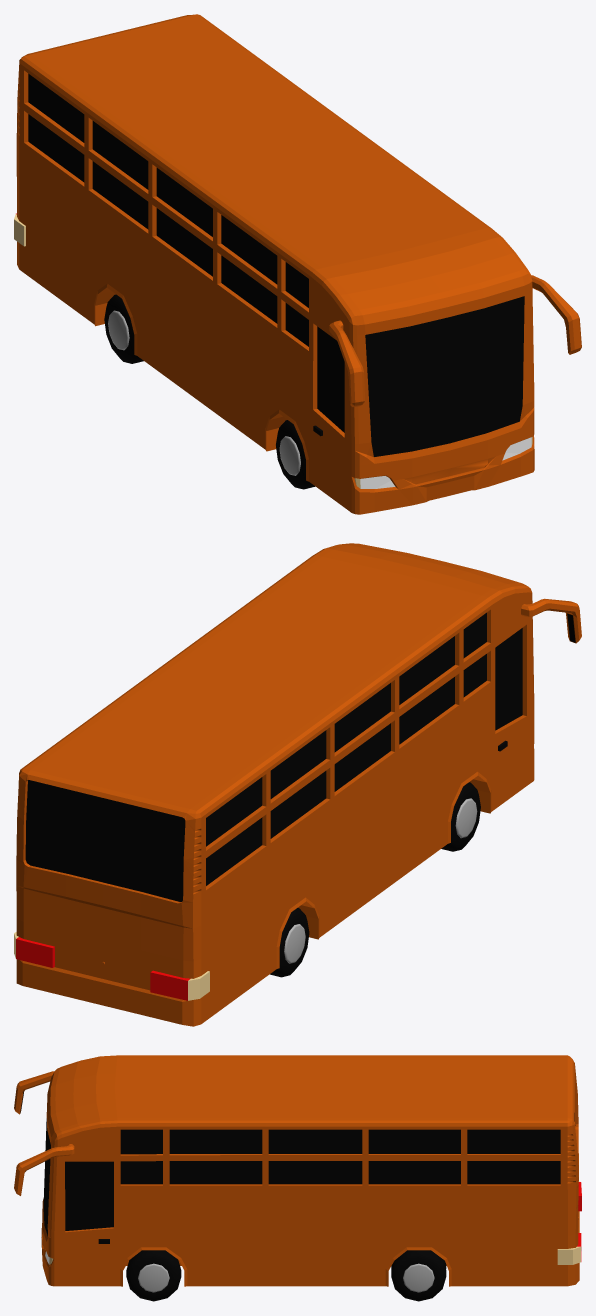
The model's file is BusLowPoly-d.fbx.
3 renders of one model, top to bottom at view 1: azimuth 30°, elevation 25°; view 2: azimuth 150°, elevation 25°; view 3: azimuth 270°, elevation 25°, orthographic. The views are drawn at different scales.
Visible parts, largest first — view 1: BUS, BR, FR, High-Beam; view 2: BUS, Break-Light, BR, FR; view 3: BUS, BL, FL, Light-Left.
Part boxes in pixels (x1,y1,x2,y2): BUS: (16, 14, 581, 514); BR: (104, 294, 143, 363); FR: (276, 420, 315, 489); High-Beam: (360, 437, 531, 488); BUS: (16, 543, 581, 1026); Break-Light: (16, 937, 190, 1000); BR: (270, 908, 309, 977); FR: (441, 782, 480, 851); BUS: (14, 1055, 581, 1286); BL: (391, 1250, 446, 1301); FL: (126, 1250, 181, 1301); Light-Left: (49, 1246, 580, 1264).
Bounding box in the file's own units: 3.1 × 3.02 × 8.55.
